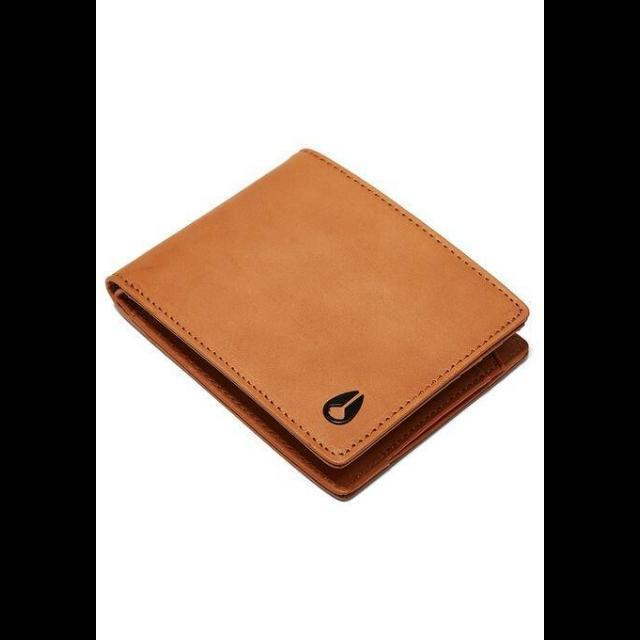wallet: (102, 144, 534, 506)
